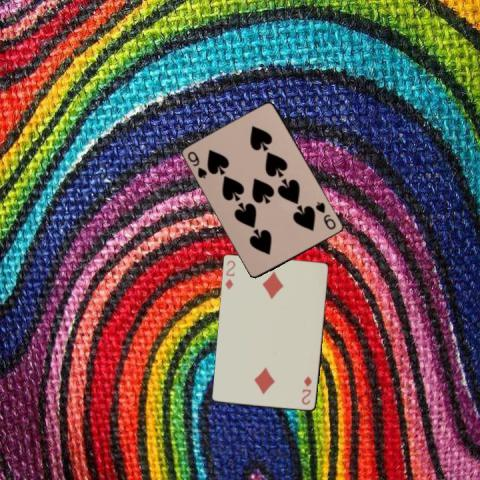2d: (222, 258, 237, 292), (300, 373, 314, 406)
9s: (313, 199, 337, 231), (184, 148, 208, 180)
